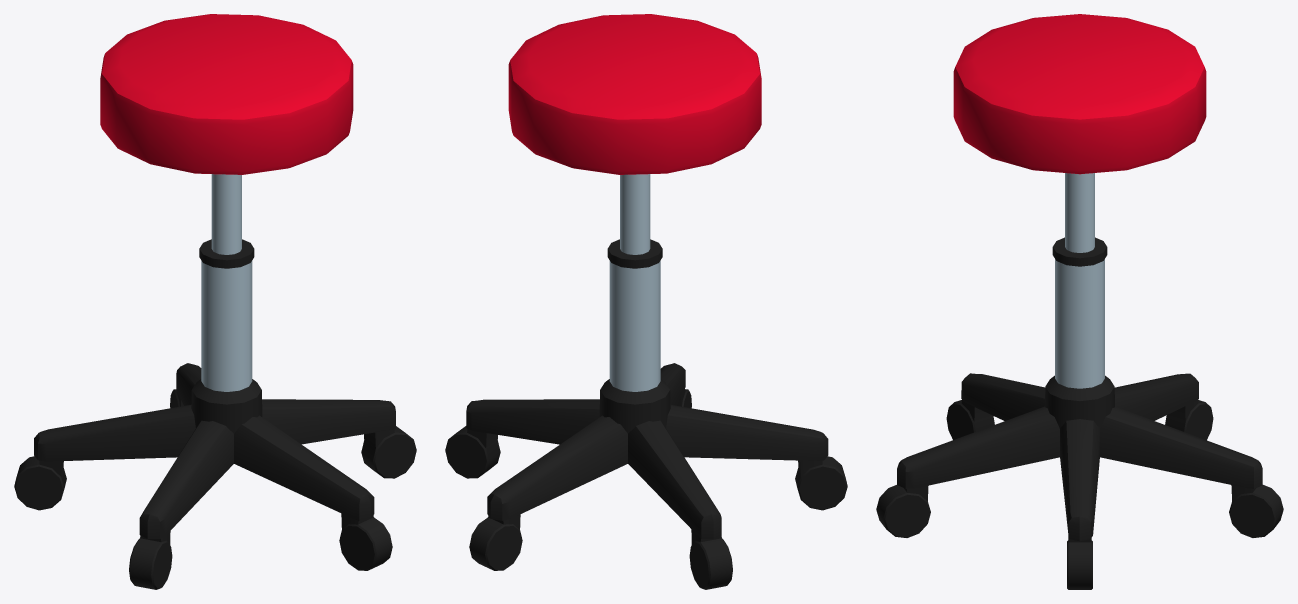
File: Stool.fbx
3 renders of one model, left to right at view 1: azimuth 30°, elevation 25°; view 2: azimuth 150°, elevation 25°; view 3: azimuth 270°, elevation 25°, orthographic.
Visible parts, largest first — view 1: Seat; view 2: Seat; view 3: Seat.
Boxes of the visible parts, left/top/right/bottom form: Seat: left=14, top=14, right=416, bottom=589; Seat: left=445, top=14, right=847, bottom=589; Seat: left=876, top=14, right=1283, bottom=589.
Size of the model in its own units: 39.33 by 50.32 by 41.35.
